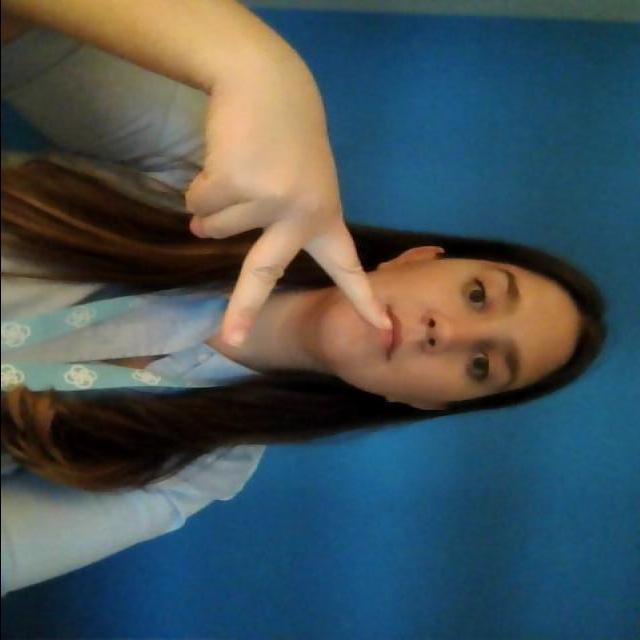Scissors: (197, 167, 387, 340)
